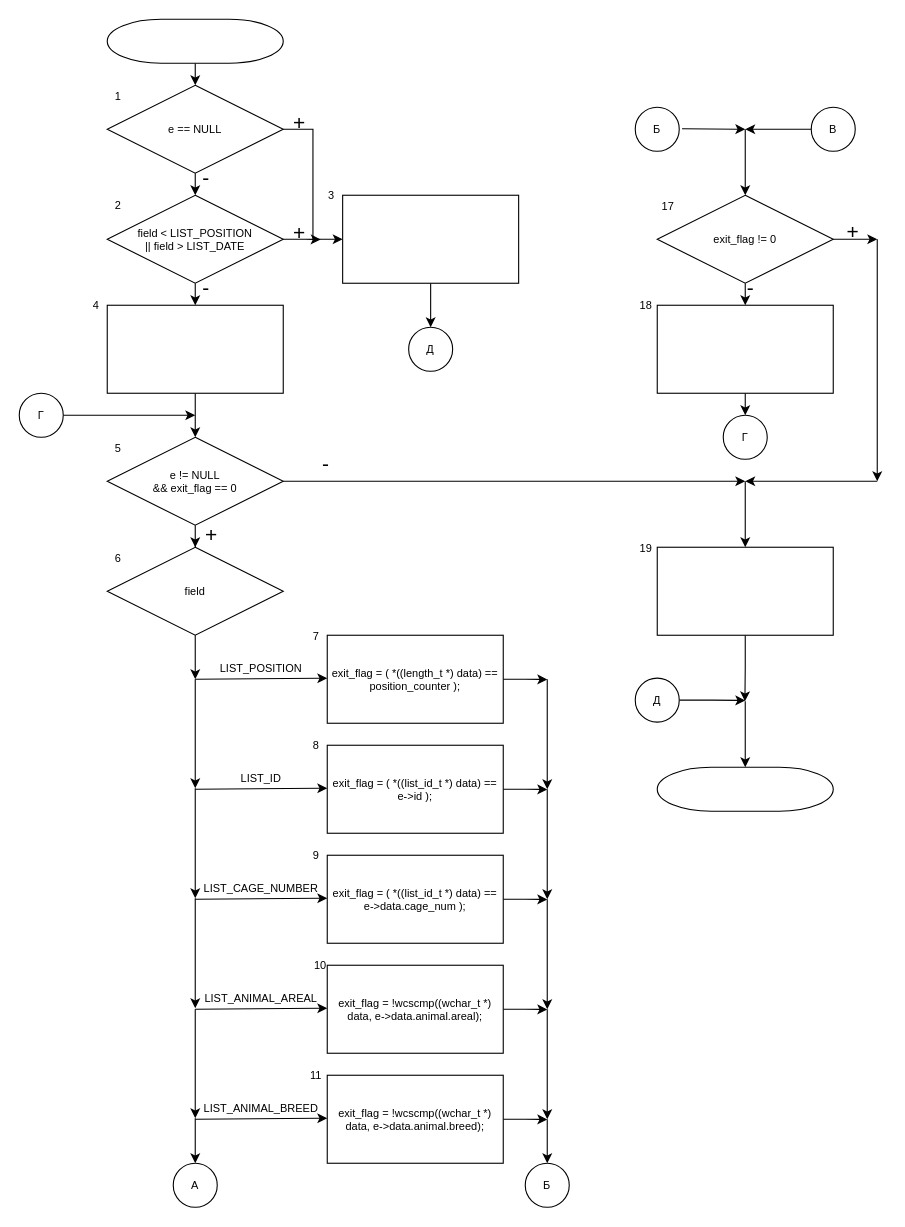
This 905x1227 diagram has some shape labels left out. Each missing label, with the centre of its shape:
"e = e->next; position_counter++;" goes at pixel 744 348.
"length_t position_counter = 1; short exit_flag = 0;" goes at pixel 194 348.
"lists_SearchElementByFieldFromThisElement (*e, field, *data) Начало" goes at pixel 194 40.
"lists_SearchElementByFieldFromThisElement Конец" goes at pixel 744 788.
"return e;" goes at pixel 744 590.
"return NULL" goes at pixel 430 238.
